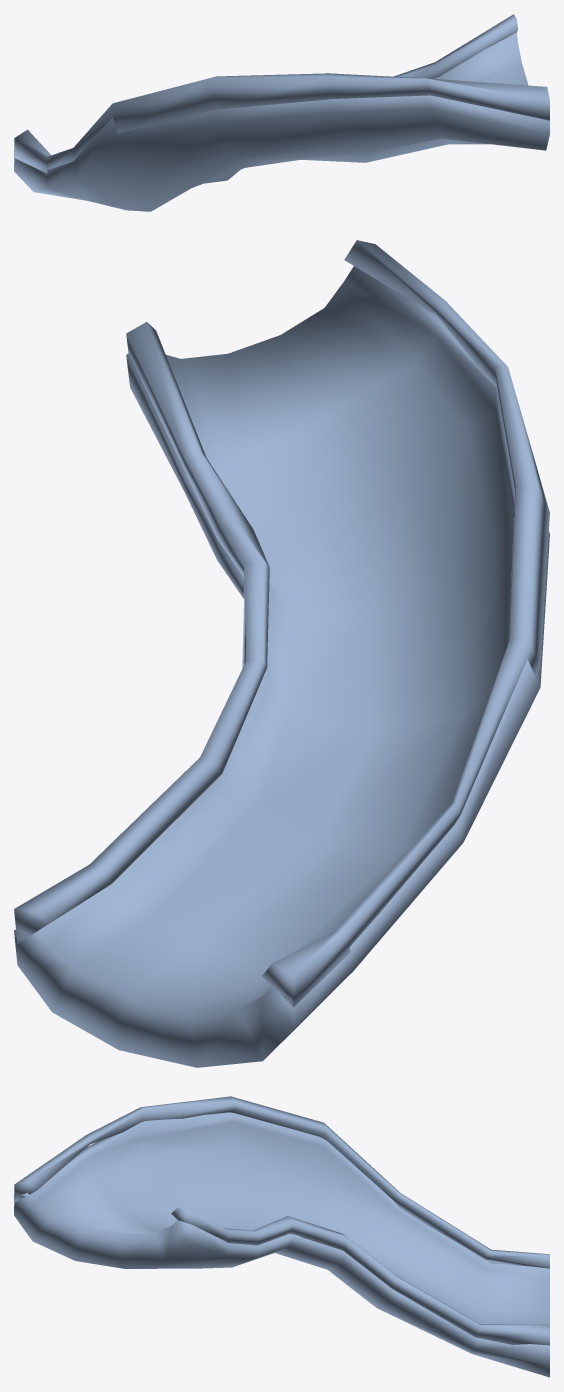
File: junRoadShortSlope10_70.fbx
3 views of the same model, one above another, from view 1: azimuth 30°, elevation 25°; view 2: azimuth 150°, elevation 25°; view 3: azimuth 270°, elevation 25° (orthographic). The views are drawn at different scales.
Parts seen in each view (by area): view 1: roadShortSlope10_70_LOD0, roadShortSlope10_70_edge_LOD0; view 2: roadShortSlope10_70_LOD0, roadShortSlope10_70_edge_LOD0; view 3: roadShortSlope10_70_LOD0, roadShortSlope10_70_edge_LOD0.
Part boxes in pixels (box(x1,y1,x2,y2)): roadShortSlope10_70_LOD0: box(14, 32, 549, 211); roadShortSlope10_70_edge_LOD0: box(14, 14, 549, 173); roadShortSlope10_70_LOD0: box(14, 266, 549, 1067); roadShortSlope10_70_edge_LOD0: box(14, 240, 549, 1007); roadShortSlope10_70_LOD0: box(14, 1112, 549, 1377); roadShortSlope10_70_edge_LOD0: box(14, 1096, 549, 1345).
Bounding box in the file's own units: 1768 × 1447 × 2739.
